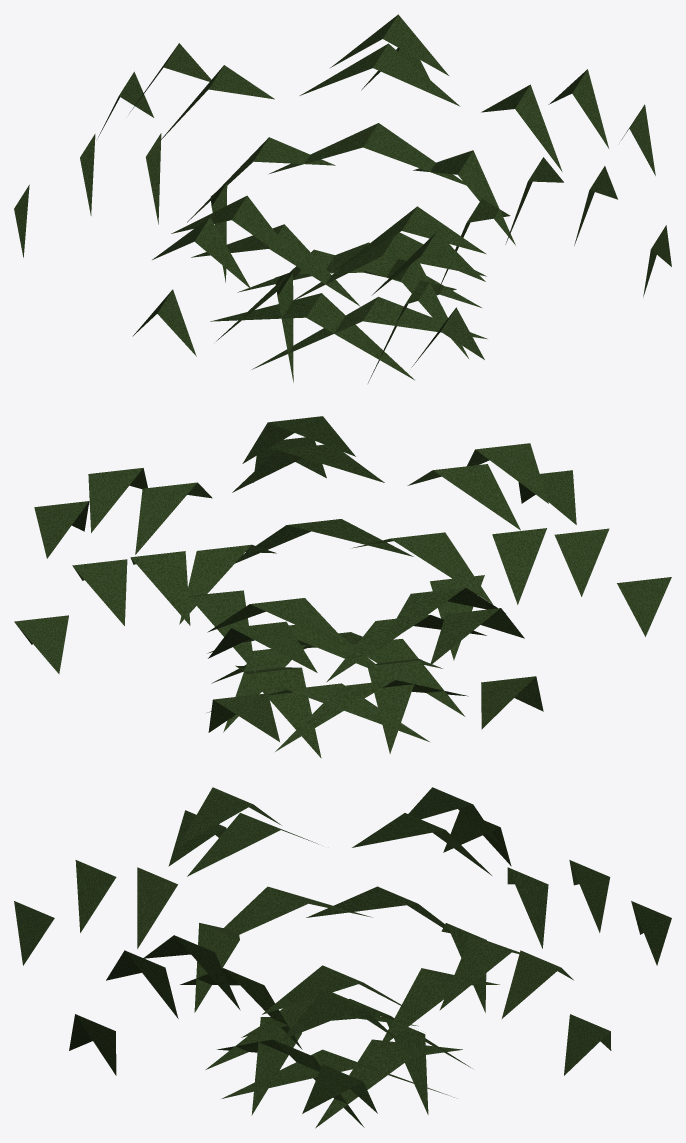
File: level_woodland_fern.glb
The picture shows the model from 3 angles, top to bottom: view 1: azimuth 30°, elevation 25°; view 2: azimuth 150°, elevation 25°; view 3: azimuth 270°, elevation 25°; orthographic projection. The views are drawn at different scales.
Parts seen in each view (by area): view 1: level_woodland_fern; view 2: level_woodland_fern; view 3: level_woodland_fern.
Boxes of the visible parts, x1=… form: level_woodland_fern: x1=14, y1=14, x2=671, y2=382; level_woodland_fern: x1=14, y1=416, x2=671, y2=758; level_woodland_fern: x1=14, y1=787, x2=671, y2=1128.
Size of the model in its own units: 1.1 by 0.3429 by 1.13.
Materials: 1 (1 with a texture image).
